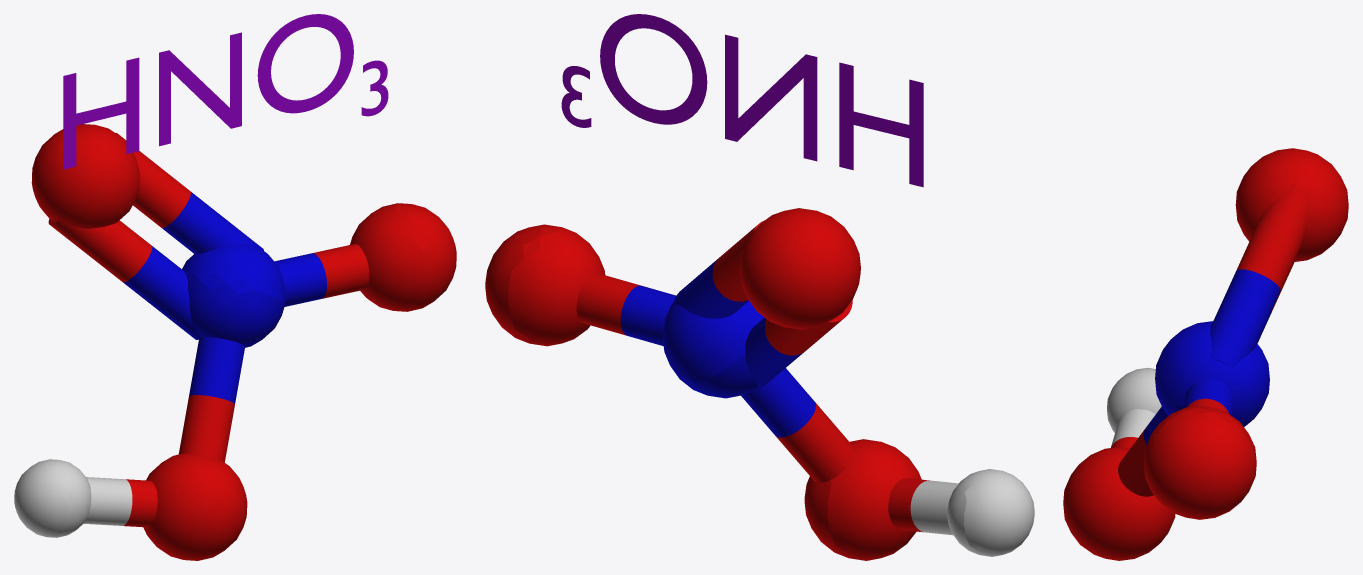
The model's file is hno3.obj.
3 views of the same model, side by side, from view 1: azimuth 30°, elevation 25°; view 2: azimuth 150°, elevation 25°; view 3: azimuth 270°, elevation 25° (orthographic). The views are drawn at different scales.
Visible parts, largest first — view 1: Shape_IndexedFaceSet.022_Shape_IndexedFaceSet.048, Shape_IndexedFaceSet.002_Shape_IndexedFaceSet.053, Shape_IndexedFaceSet.017_Shape_IndexedFaceSet.068, Shape_IndexedFaceSet.013_Shape_IndexedFaceSet.064, Text_Text.018, Shape_IndexedFaceSet.019_Shape_IndexedFaceSet.047, Text.001_Text.019; view 2: Shape_IndexedFaceSet.022_Shape_IndexedFaceSet.048, Shape_IndexedFaceSet.002_Shape_IndexedFaceSet.053, Shape_IndexedFaceSet.017_Shape_IndexedFaceSet.068, Shape_IndexedFaceSet.013_Shape_IndexedFaceSet.064, Text_Text.018, Shape_IndexedFaceSet.019_Shape_IndexedFaceSet.047, Text.001_Text.019; view 3: Shape_IndexedFaceSet.022_Shape_IndexedFaceSet.048, Shape_IndexedFaceSet.002_Shape_IndexedFaceSet.053, Shape_IndexedFaceSet.013_Shape_IndexedFaceSet.064, Shape_IndexedFaceSet.017_Shape_IndexedFaceSet.068, Shape_IndexedFaceSet.019_Shape_IndexedFaceSet.047.
Part boxes in pixels (bbox=[...]): Shape_IndexedFaceSet.022_Shape_IndexedFaceSet.048: bbox=[123, 192, 326, 403]; Shape_IndexedFaceSet.002_Shape_IndexedFaceSet.053: bbox=[31, 124, 190, 282]; Shape_IndexedFaceSet.017_Shape_IndexedFaceSet.068: bbox=[123, 395, 247, 560]; Shape_IndexedFaceSet.013_Shape_IndexedFaceSet.064: bbox=[312, 203, 456, 311]; Text_Text.018: bbox=[63, 14, 353, 169]; Shape_IndexedFaceSet.019_Shape_IndexedFaceSet.047: bbox=[14, 459, 132, 537]; Text.001_Text.019: bbox=[361, 60, 388, 116]; Shape_IndexedFaceSet.022_Shape_IndexedFaceSet.048: bbox=[620, 257, 815, 437]; Shape_IndexedFaceSet.002_Shape_IndexedFaceSet.053: bbox=[712, 208, 860, 355]; Shape_IndexedFaceSet.017_Shape_IndexedFaceSet.068: bbox=[775, 402, 929, 560]; Shape_IndexedFaceSet.013_Shape_IndexedFaceSet.064: bbox=[485, 224, 640, 346]; Text_Text.018: bbox=[600, 14, 923, 187]; Shape_IndexedFaceSet.019_Shape_IndexedFaceSet.047: bbox=[910, 469, 1034, 556]; Text.001_Text.019: bbox=[561, 66, 591, 127]; Shape_IndexedFaceSet.022_Shape_IndexedFaceSet.048: bbox=[1143, 269, 1280, 444]; Shape_IndexedFaceSet.002_Shape_IndexedFaceSet.053: bbox=[1235, 148, 1348, 310]; Shape_IndexedFaceSet.013_Shape_IndexedFaceSet.064: bbox=[1143, 398, 1256, 519]; Shape_IndexedFaceSet.017_Shape_IndexedFaceSet.068: bbox=[1063, 428, 1175, 560]; Shape_IndexedFaceSet.019_Shape_IndexedFaceSet.047: bbox=[1107, 368, 1161, 446].
Size of the model in its own units: 8.92 by 8.9 by 4.65.
